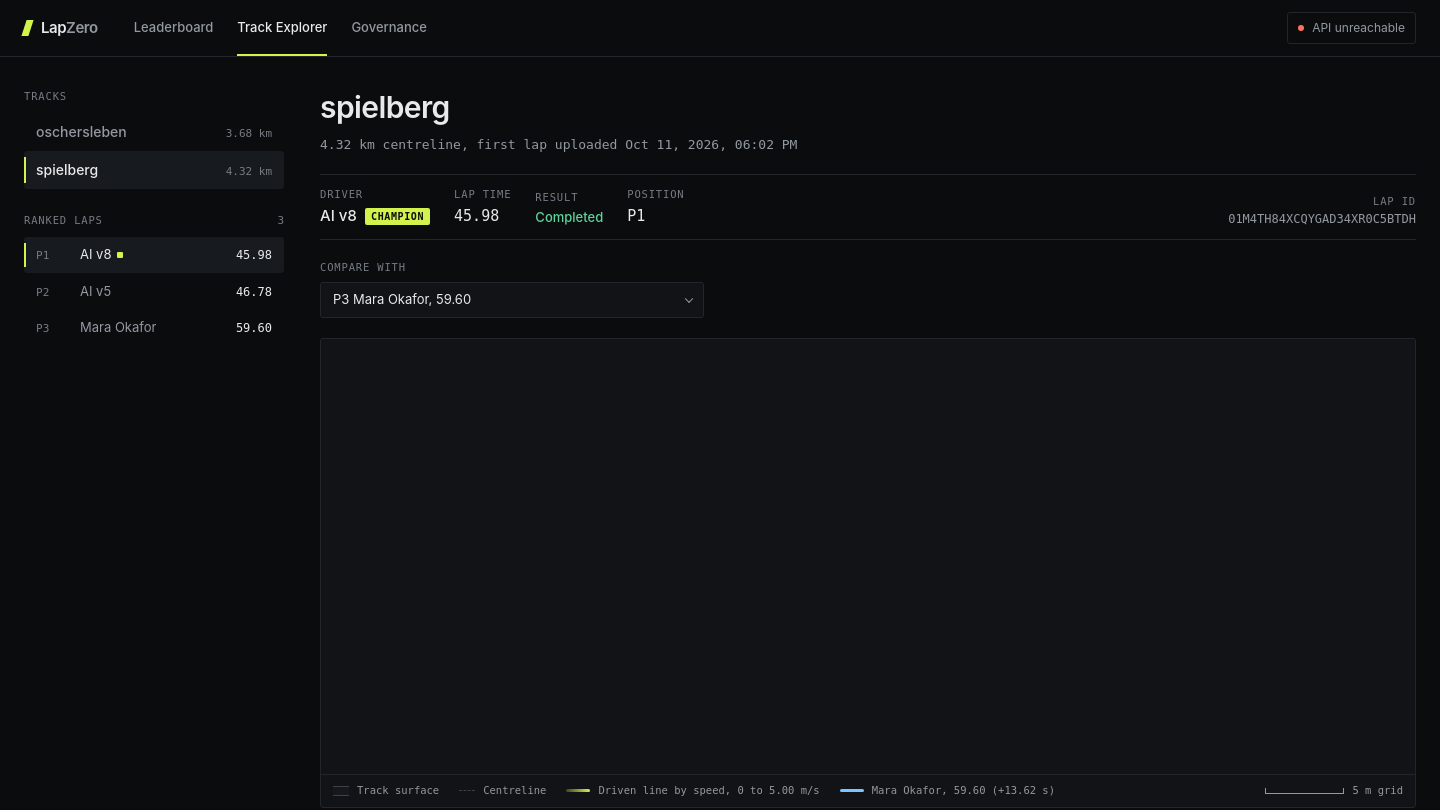
Test: Track Explorer › comparing two laps › opens a comparison from the URL and clears it on request
Check: the list item "Mara Okafor, 59.60 (+13.62 s)" is shown, box [840,783,1055,799]
Select "No comparison" in the dropdown labelled "Compare with". click: point(512, 300)
box: [320,282,704,318]
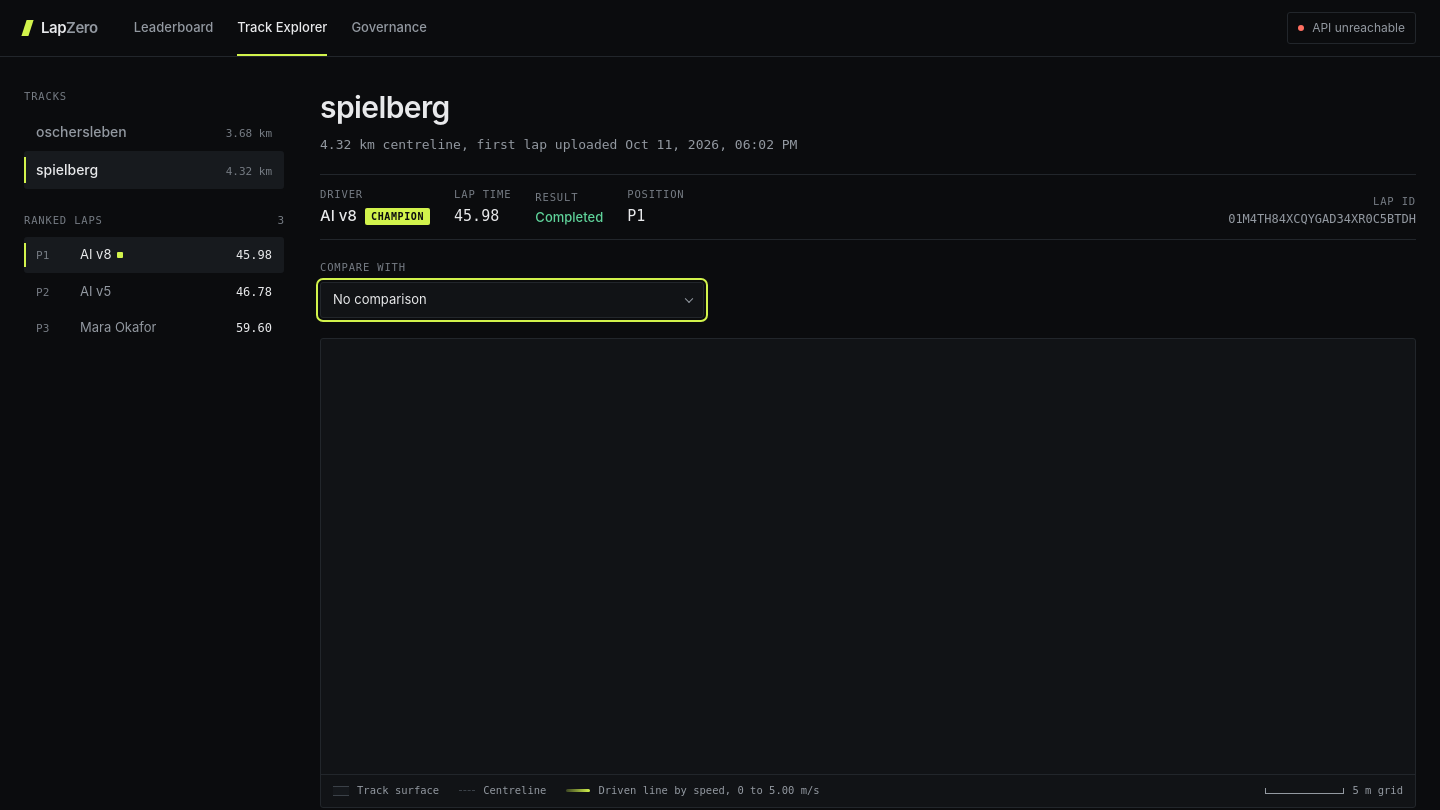
Check: the list item "Mara Okafor, 59.60 (+13.62 s)" is gone
